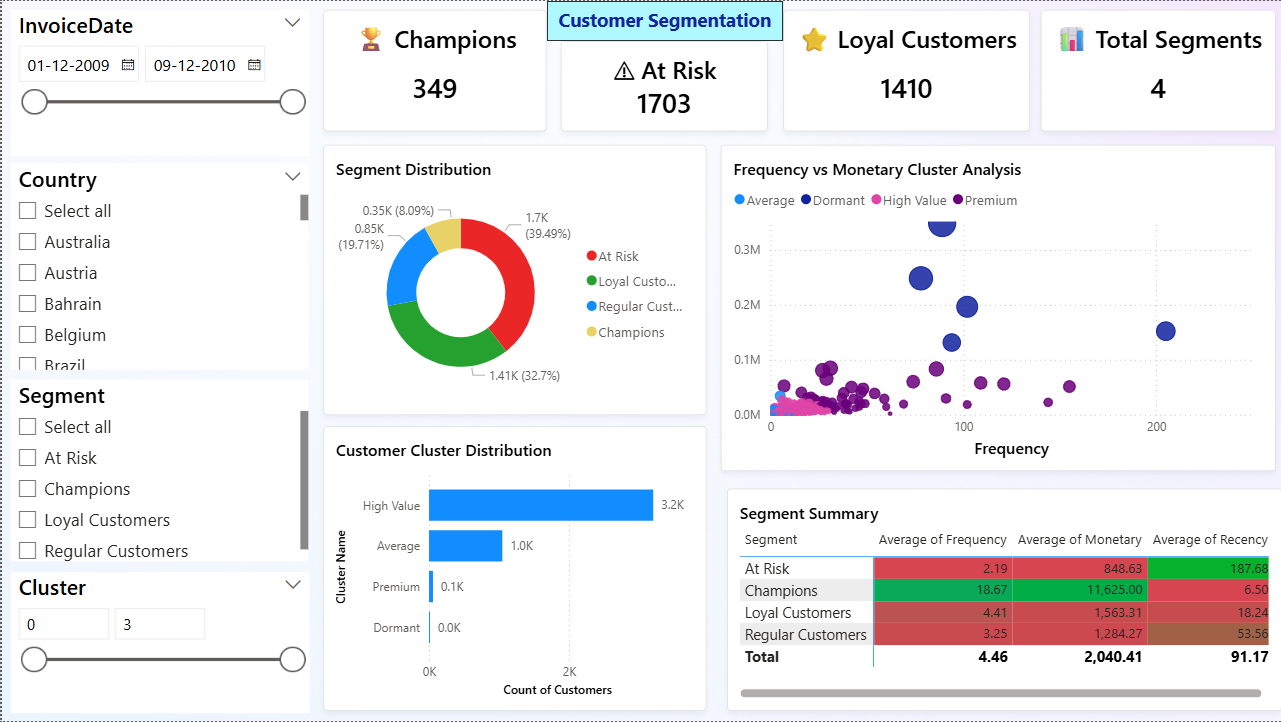

What the dashboard file says about the page in this screenshot:
{"tool":"powerbi","page":{"name":"Customer Segmentation","canvas":[1280,720],"ordinal":3},"visuals":[{"type":"donutChart","title":"Segment Distribution","fields":{"Category":["customer_segments.Segment"],"Y":["Count(customer_segments.Customer ID)"]},"box":[321.7,143.3,383.3,270],"z":0},{"type":"clusteredBarChart","title":"Customer Cluster Distribution","fields":{"Y":["Count(customer_segments.Customer ID)"],"Category":["customer_segments.Cluster Name"]},"box":[321.7,425,383.3,285],"z":1000},{"type":"scatterChart","title":"Frequency vs Monetary Cluster Analysis","fields":{"X":["customer_segments.Frequency"],"Y":["customer_segments.Monetary"],"Size":["Sum(customer_segments.Monetary)"],"Series":["customer_segments.Cluster Name"]},"box":[718.3,143.3,555,326.7],"z":2000},{"type":"pivotTable","title":"Segment Summary","fields":{"Rows":["customer_segments.Segment"],"Values":["Avg(customer_segments.Frequency)","Avg(customer_segments.Monetary)","Avg(customer_segments.Recency)"]},"box":[725,487.5,555,222.5],"z":3000},{"type":"slicer","fields":{"Values":["cleaned_online_retail.InvoiceDate"]},"box":[8.2,8.2,297.6,145.9],"z":4000},{"type":"slicer","fields":{"Values":["cleaned_online_retail.Country"]},"box":[8.3,162.5,297.9,206.2],"z":5000},{"type":"slicer","fields":{"Values":["customer_segments.Segment"]},"box":[8.3,379.2,297.9,181.2],"z":6000},{"type":"slicer","fields":{"Values":["customer_segments.Cluster"]},"box":[8.2,571.2,298.2,141.2],"z":7000},{"type":"card","title":"🏆 Champions","fields":{"Values":["cleaned_online_retail.Champions Count"]},"box":[321.7,8.3,223.3,121.7],"z":8000},{"type":"card","title":"⚠ At Risk","fields":{"Values":["cleaned_online_retail.At Risk Count"]},"box":[558.8,40,207.5,90],"z":9000},{"type":"card","title":"⭐ Loyal Customers","fields":{"Values":["cleaned_online_retail.Loyal Count"]},"box":[781.7,8.3,246.7,121.7],"z":10000},{"type":"card","title":"📊 Total Segments","fields":{"Values":["cleaned_online_retail.Total Segments"]},"box":[1038.3,8.3,235,121.7],"z":11000},{"type":"textbox","box":[545,0,236.2,40],"z":12000}]}

Visuals, with their boxes in screenshot pixels (x1, y1, x2, y2), scaled from the page's 1280x720 canvas onto the 1281x722 screenshot:
"Segment Distribution" donutChart: BBox(322, 144, 706, 414)
"Customer Cluster Distribution" clusteredBarChart: BBox(322, 426, 706, 712)
"Frequency vs Monetary Cluster Analysis" scatterChart: BBox(719, 144, 1274, 471)
"Segment Summary" pivotTable: BBox(726, 489, 1280, 712)
slicer - cleaned_online_retail.InvoiceDate: BBox(8, 8, 306, 155)
slicer - cleaned_online_retail.Country: BBox(8, 163, 306, 370)
slicer - customer_segments.Segment: BBox(8, 380, 306, 562)
slicer - customer_segments.Cluster: BBox(8, 573, 307, 714)
"🏆 Champions" card: BBox(322, 8, 545, 130)
"⚠ At Risk" card: BBox(559, 40, 767, 130)
"⭐ Loyal Customers" card: BBox(782, 8, 1029, 130)
"📊 Total Segments" card: BBox(1039, 8, 1274, 130)
textbox: BBox(545, 0, 782, 40)
